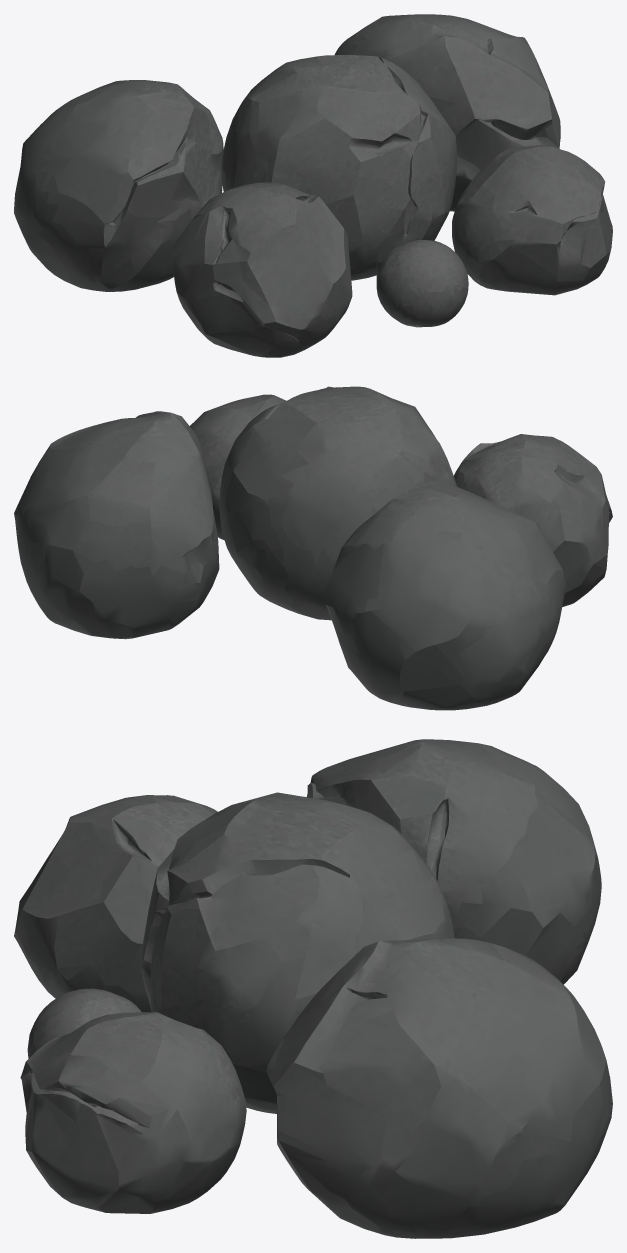
Rendered from regolith-rocks.gltf.
3 renders of one model, top to bottom at view 1: azimuth 30°, elevation 25°; view 2: azimuth 150°, elevation 25°; view 3: azimuth 270°, elevation 25°, orthographic. The views are drawn at different scales.
Size of the model in its own units: 1.9 by 0.7 by 1.42.
1 material, 1 textured.
